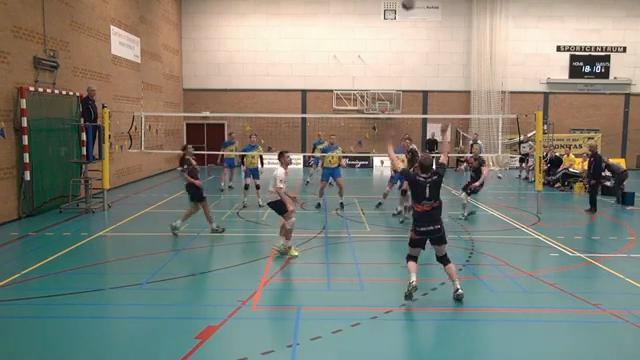ricezione: (378, 119, 468, 302)
